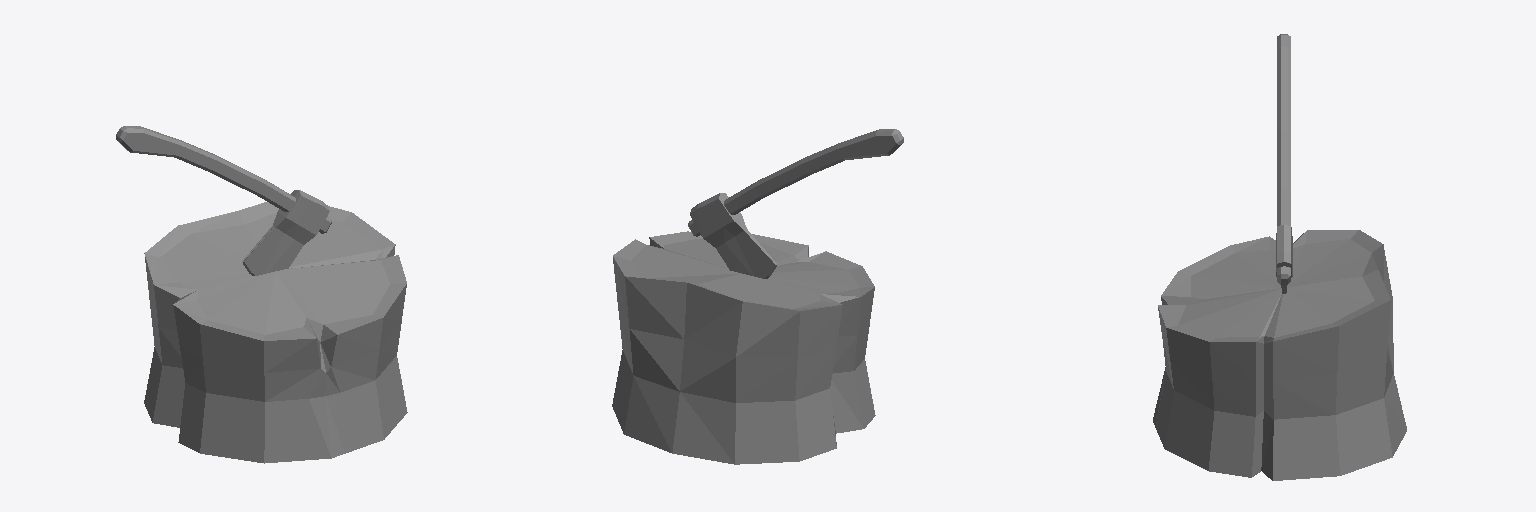
The model's file is axe.obj.
3 renders of one model, left to right at view 1: azimuth 30°, elevation 25°; view 2: azimuth 150°, elevation 25°; view 3: azimuth 270°, elevation 25°, orthographic.
Size of the model in its own units: 0.7567 by 0.8436 by 0.6135.